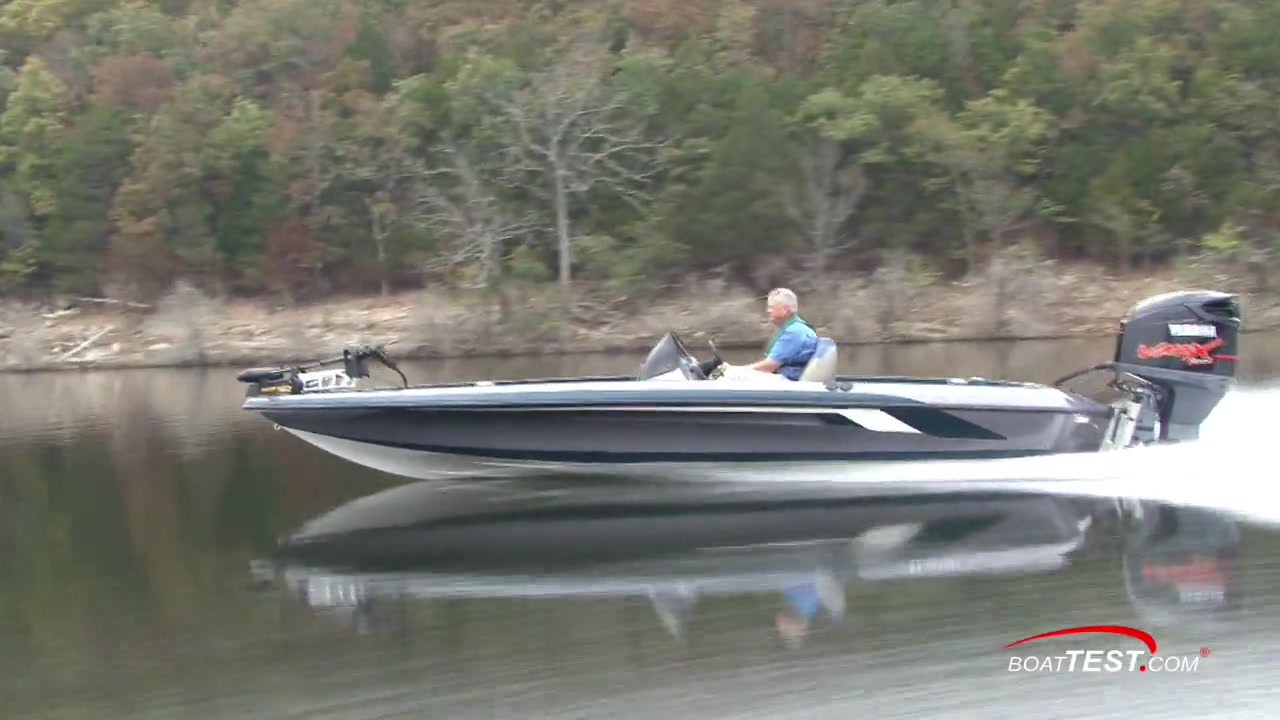boat: (242, 292, 1241, 487)
